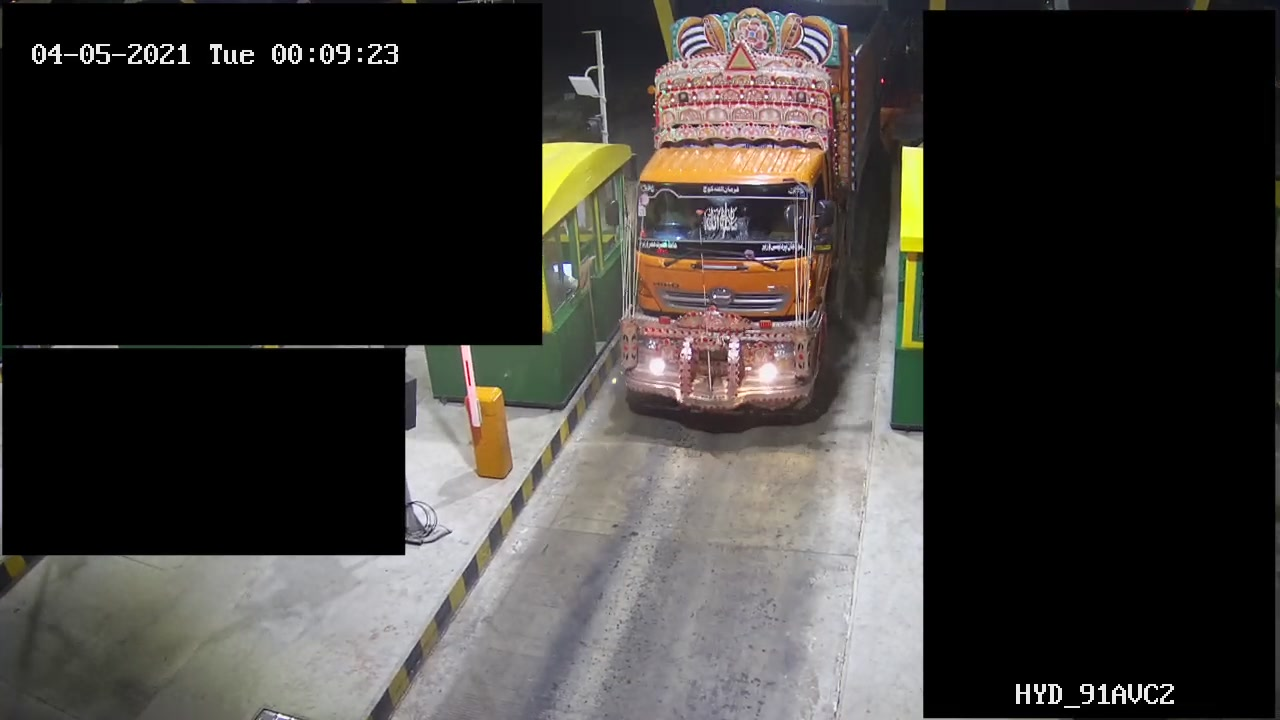F6: (609, 1, 897, 451)
